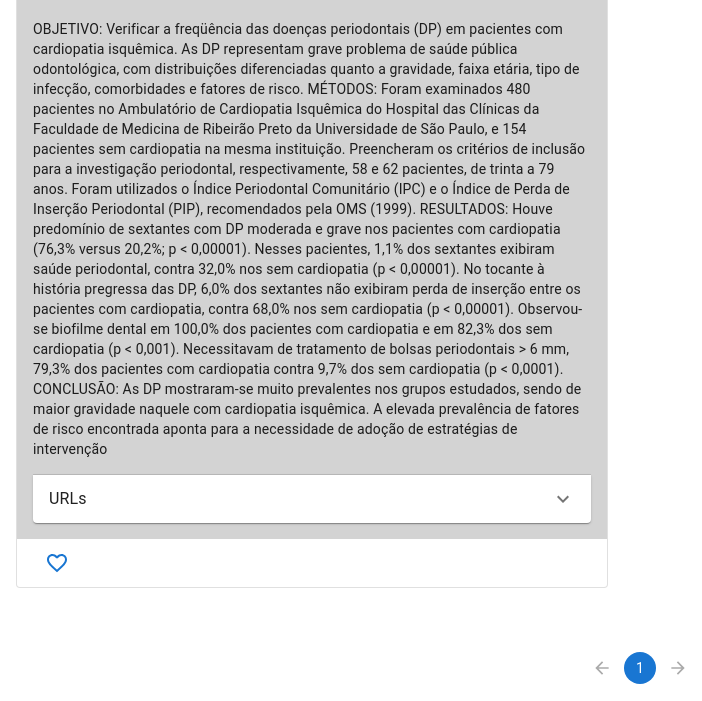
Test: the array of urls should contain urls clickable
(page scrolled)
Expected: the button "URLs" is shown, [49,487,575,511]
Click the icon with test id "ExpandMoreIcon".
click(563, 499)  # box [551,487,575,511]
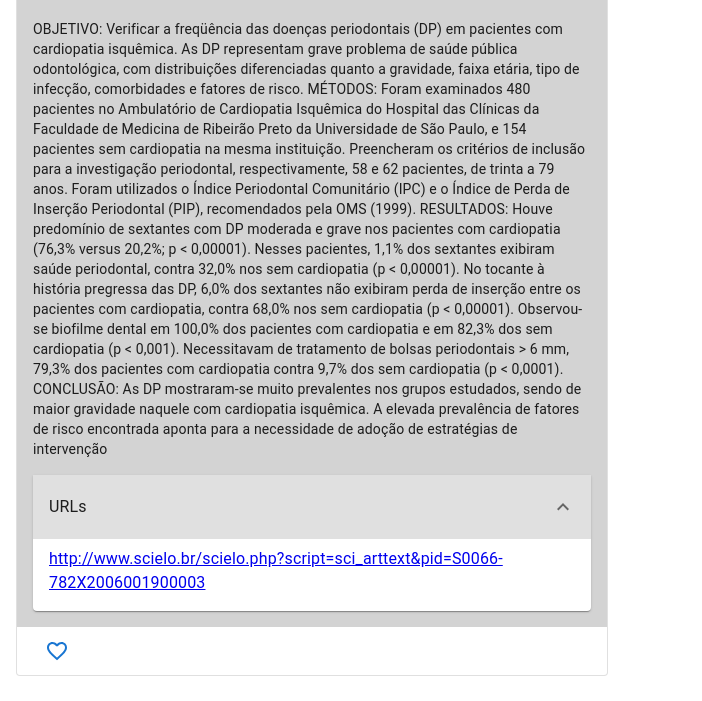
Result: the link with test id "url 1" is shown at [49,549,503,592]
